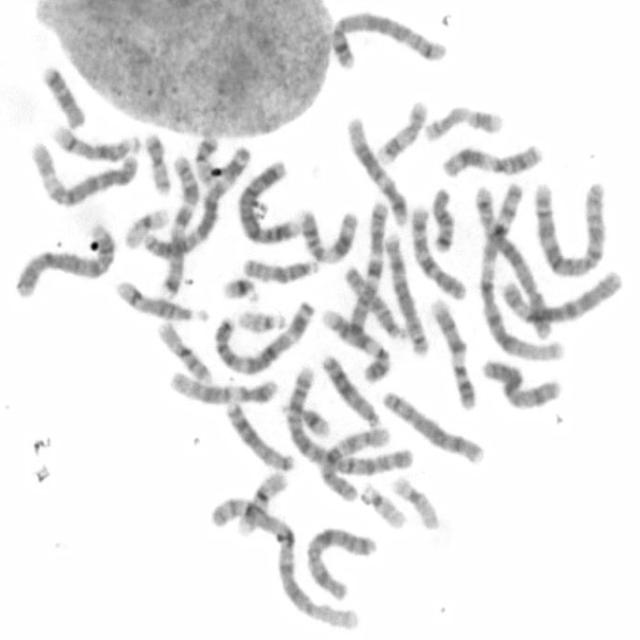A1: (204, 490, 362, 632), (472, 179, 562, 361)
A2: (282, 358, 417, 477), (530, 175, 612, 278)
A3: (140, 142, 252, 262), (209, 294, 317, 376)
B4: (11, 219, 117, 301), (236, 156, 304, 247)
B5: (474, 184, 554, 339), (327, 8, 448, 70)
C10: (406, 200, 471, 302), (317, 421, 392, 504)
C11: (436, 141, 545, 180), (295, 204, 360, 266)
C12: (342, 110, 411, 229), (164, 366, 280, 406)
C6: (26, 133, 141, 210), (499, 266, 623, 327)
C7: (342, 199, 389, 343), (157, 152, 201, 298)
C8: (377, 386, 488, 467), (380, 228, 432, 358)
C9: (426, 293, 479, 412), (318, 305, 392, 383)
D13: (222, 396, 296, 472), (319, 349, 381, 430)
D14: (115, 277, 210, 325), (49, 119, 142, 163)
D15: (340, 260, 407, 341), (240, 252, 323, 284)
E16: (154, 316, 215, 385), (234, 468, 288, 538)
E17: (371, 95, 429, 166), (422, 100, 506, 143)
E18: (38, 60, 87, 129), (428, 183, 457, 255)
F19: (387, 472, 442, 532), (121, 202, 171, 251)
F20: (141, 128, 173, 197), (192, 130, 224, 187)
G21: (294, 400, 332, 438), (218, 272, 262, 303)
G22: (356, 477, 408, 531), (233, 305, 290, 334)
X: (303, 523, 378, 604), (478, 356, 564, 412)
